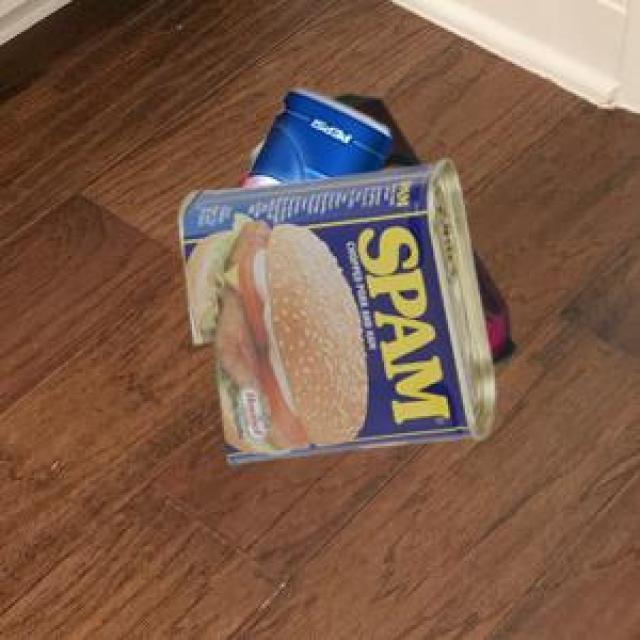Can: (176, 157, 492, 462), (240, 91, 513, 366), (242, 86, 389, 185)
